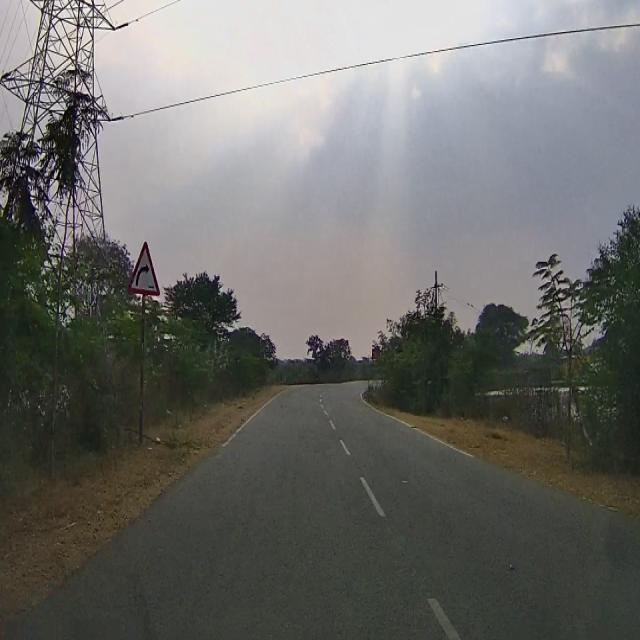sign board ahead at: (124, 243, 161, 311)
